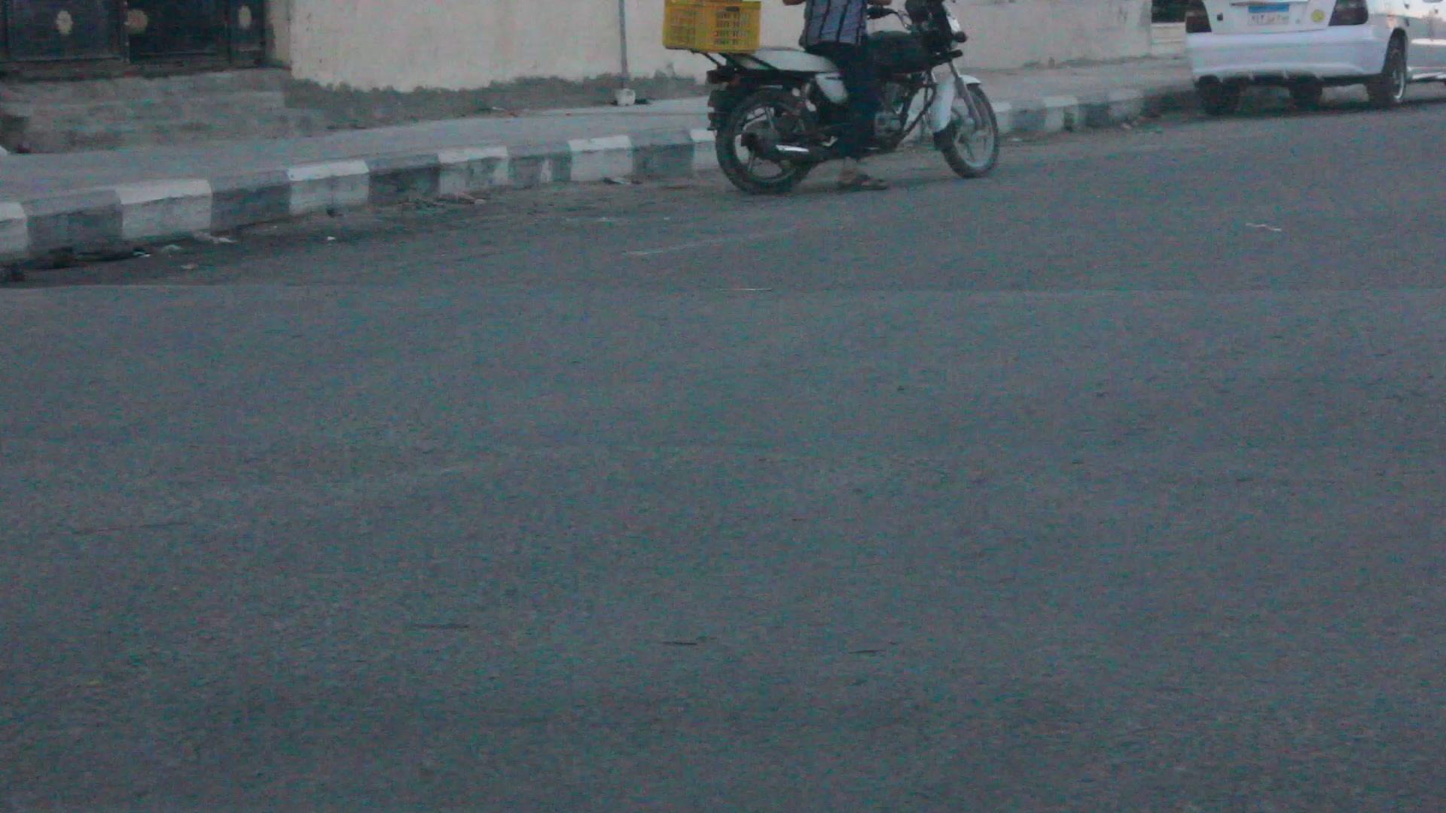Bump: (2, 294, 1446, 465)
